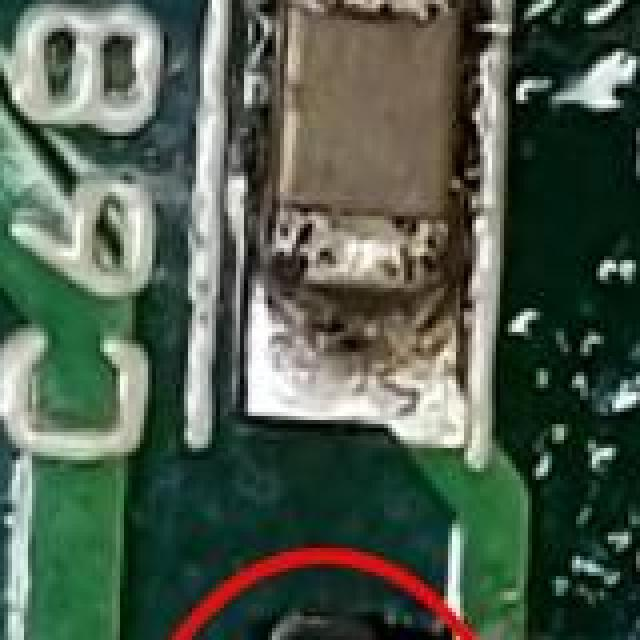capacitor: (244, 0, 472, 356)
transistor: (128, 616, 508, 640)
